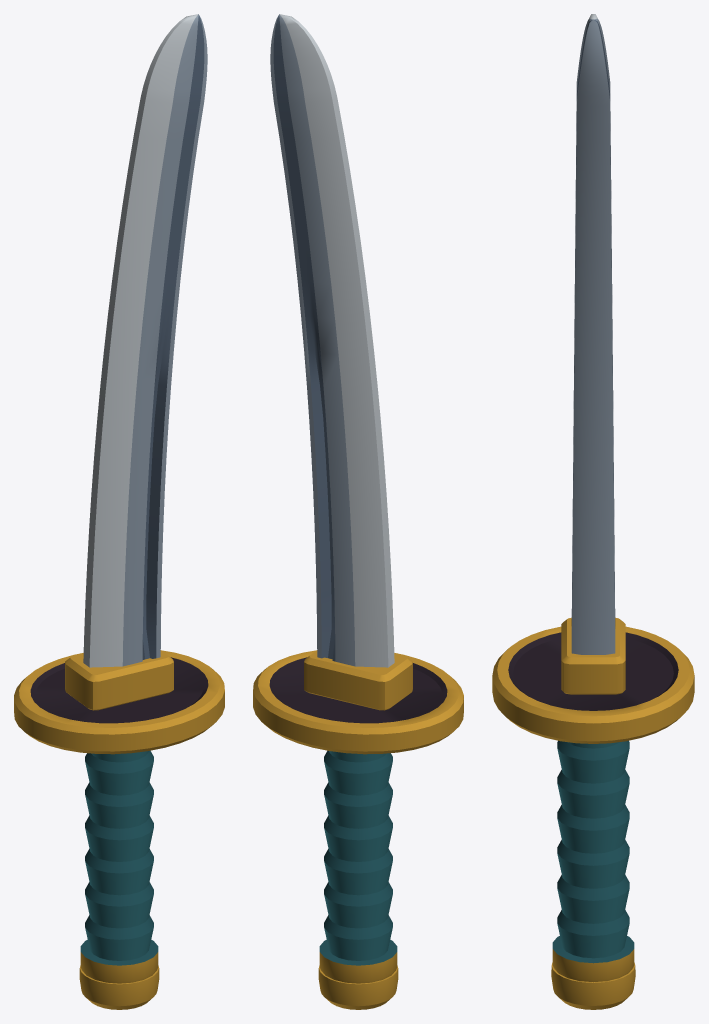
File: Katana_01.glb
The picture shows the model from 3 angles, left to right: view 1: azimuth 30°, elevation 25°; view 2: azimuth 150°, elevation 25°; view 3: azimuth 270°, elevation 25°; orthographic projection. The views are drawn at different scales.
Visible parts, largest first — view 1: Katana_01; view 2: Katana_01; view 3: Katana_01.
Part boxes in pixels (x1,y1,x2,y2): Katana_01: (14,14,224,1009); Katana_01: (253,14,463,1009); Katana_01: (492,14,694,1009).
Size of the model in its own units: 1.28 by 6.24 by 1.12.
